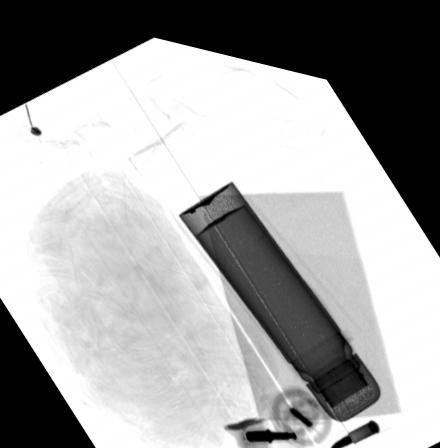Bullet: (326, 400, 379, 434)
